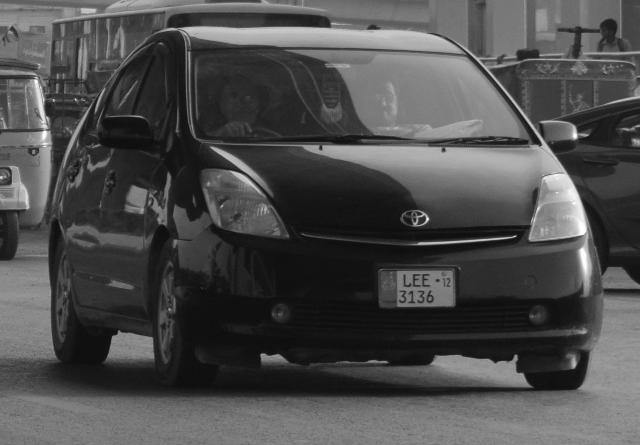Number: (399, 274, 436, 304)
